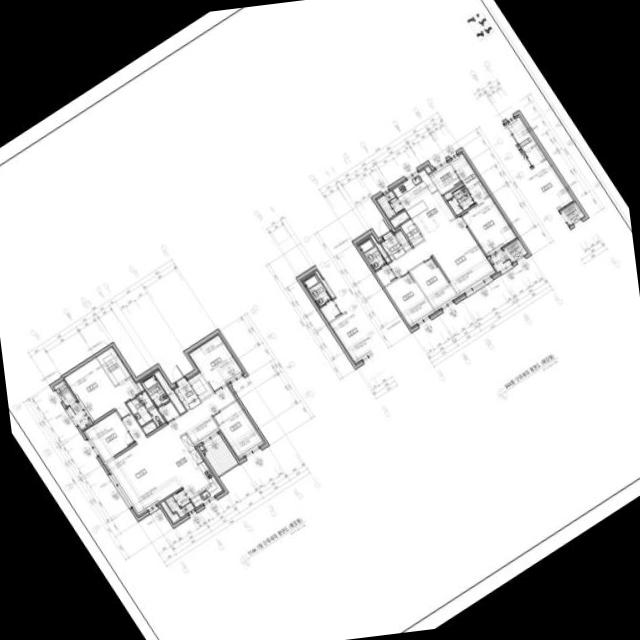background: (0, 0, 640, 640)
space_balconi: (203, 435, 237, 474), (164, 488, 194, 516), (376, 189, 403, 218), (67, 401, 90, 428), (489, 249, 511, 271)
space_bedroom: (64, 357, 140, 421), (460, 180, 516, 255), (188, 333, 243, 391), (212, 399, 264, 457), (384, 271, 434, 326), (83, 411, 134, 461), (410, 256, 457, 310)
space_dressroom: (96, 346, 130, 385), (449, 152, 479, 187)
space_front: (173, 380, 201, 409), (380, 234, 405, 259)
space_kitchen: (159, 433, 222, 506), (392, 168, 454, 237)
space_living_room: (105, 384, 236, 514), (388, 215, 495, 294)
space_other: (154, 369, 185, 413), (428, 161, 461, 193), (186, 415, 219, 445), (188, 372, 212, 399), (400, 218, 423, 245), (370, 234, 390, 261), (159, 500, 180, 523), (375, 264, 396, 285), (158, 401, 178, 421), (394, 229, 411, 250), (389, 210, 409, 227), (443, 182, 463, 199), (136, 380, 143, 390), (424, 165, 431, 172), (199, 445, 203, 450)
space_outdoor_room: (503, 238, 527, 262), (53, 379, 75, 405)
space_toilet: (126, 390, 164, 433), (358, 237, 386, 270), (141, 374, 169, 406), (447, 185, 474, 214)
